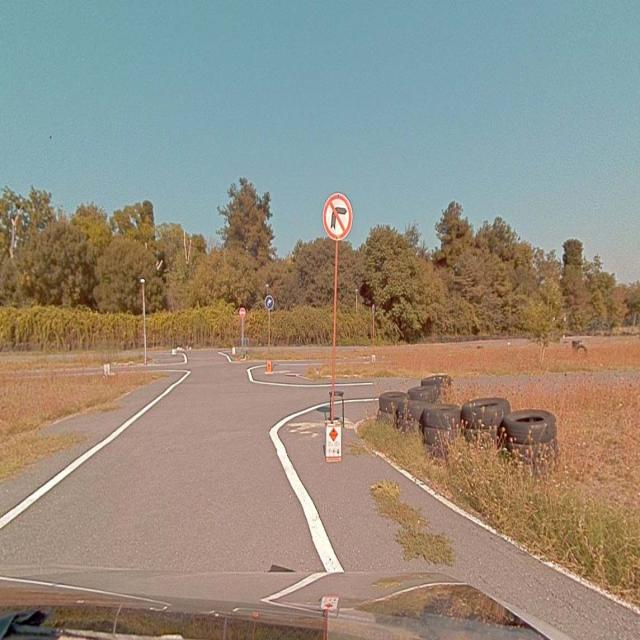girisyok: (239, 308, 245, 318)
sag: (264, 295, 274, 309)
sagadonulmez: (323, 194, 352, 239)
